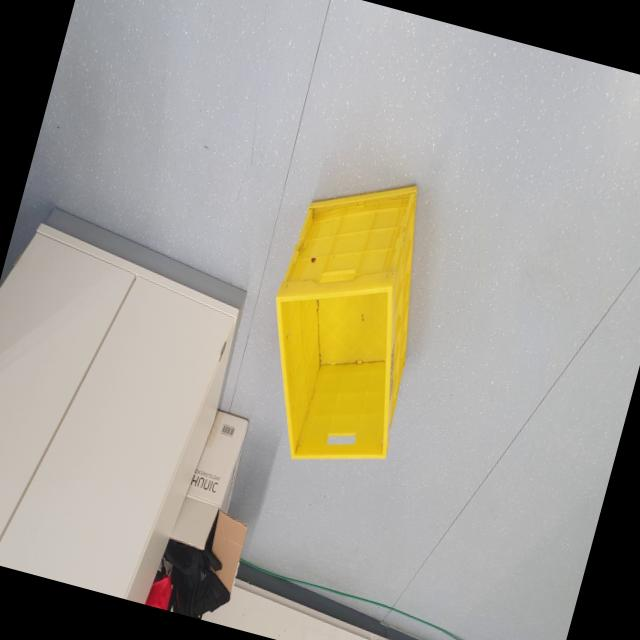box: (228, 144, 463, 494)
